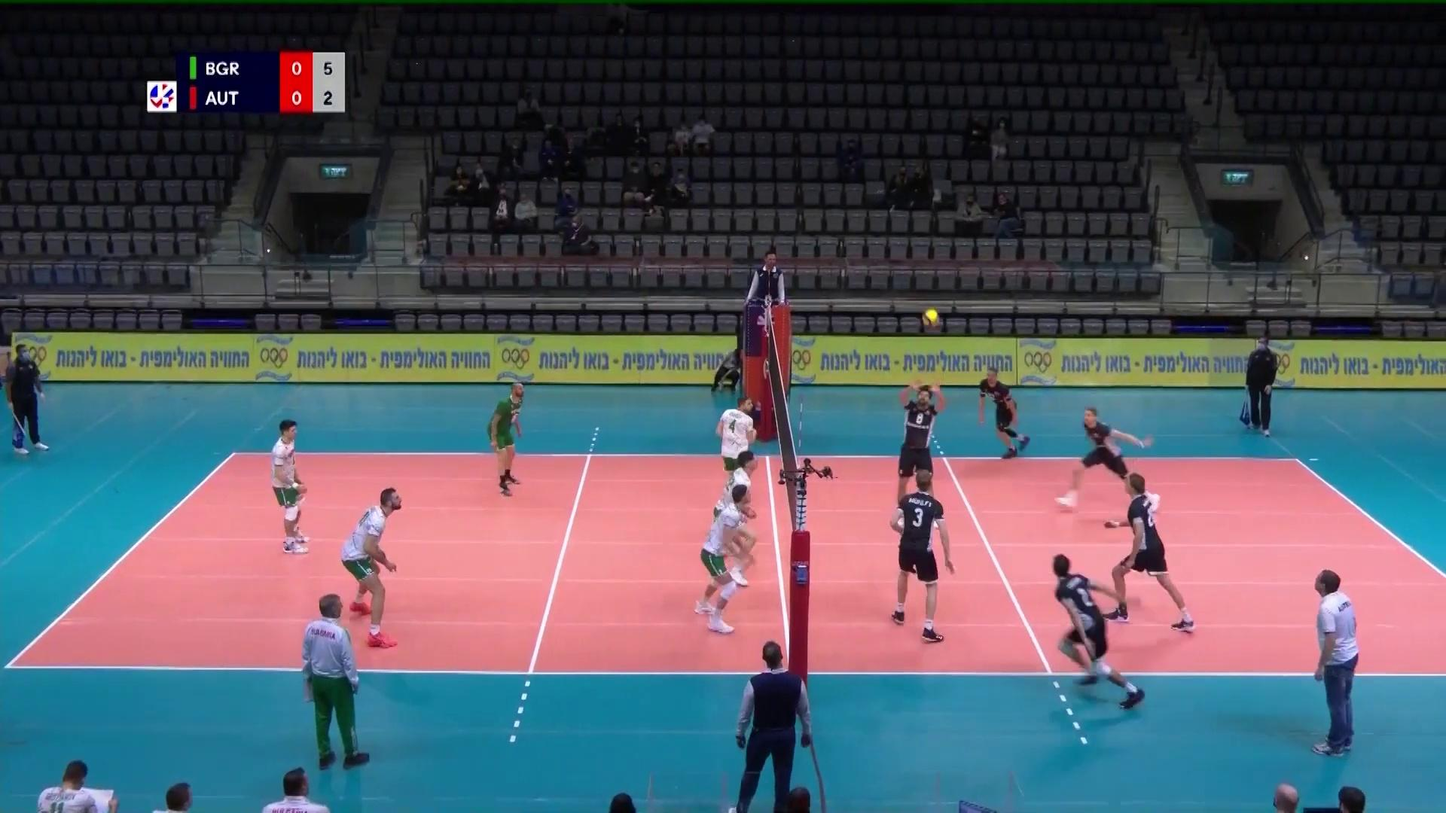ball: (921, 308, 941, 328)
